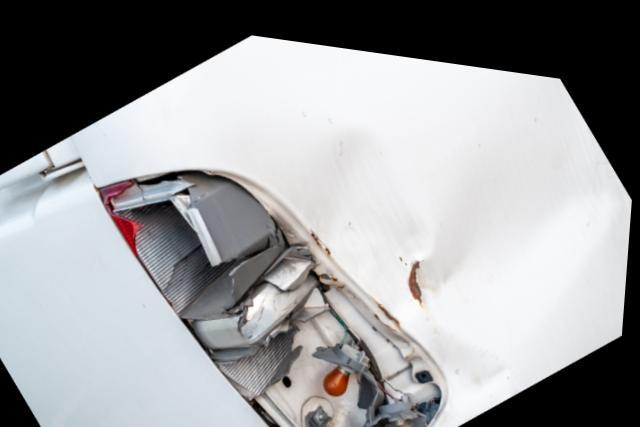dent: (300, 116, 633, 427)
lamp broken: (100, 164, 443, 427)
